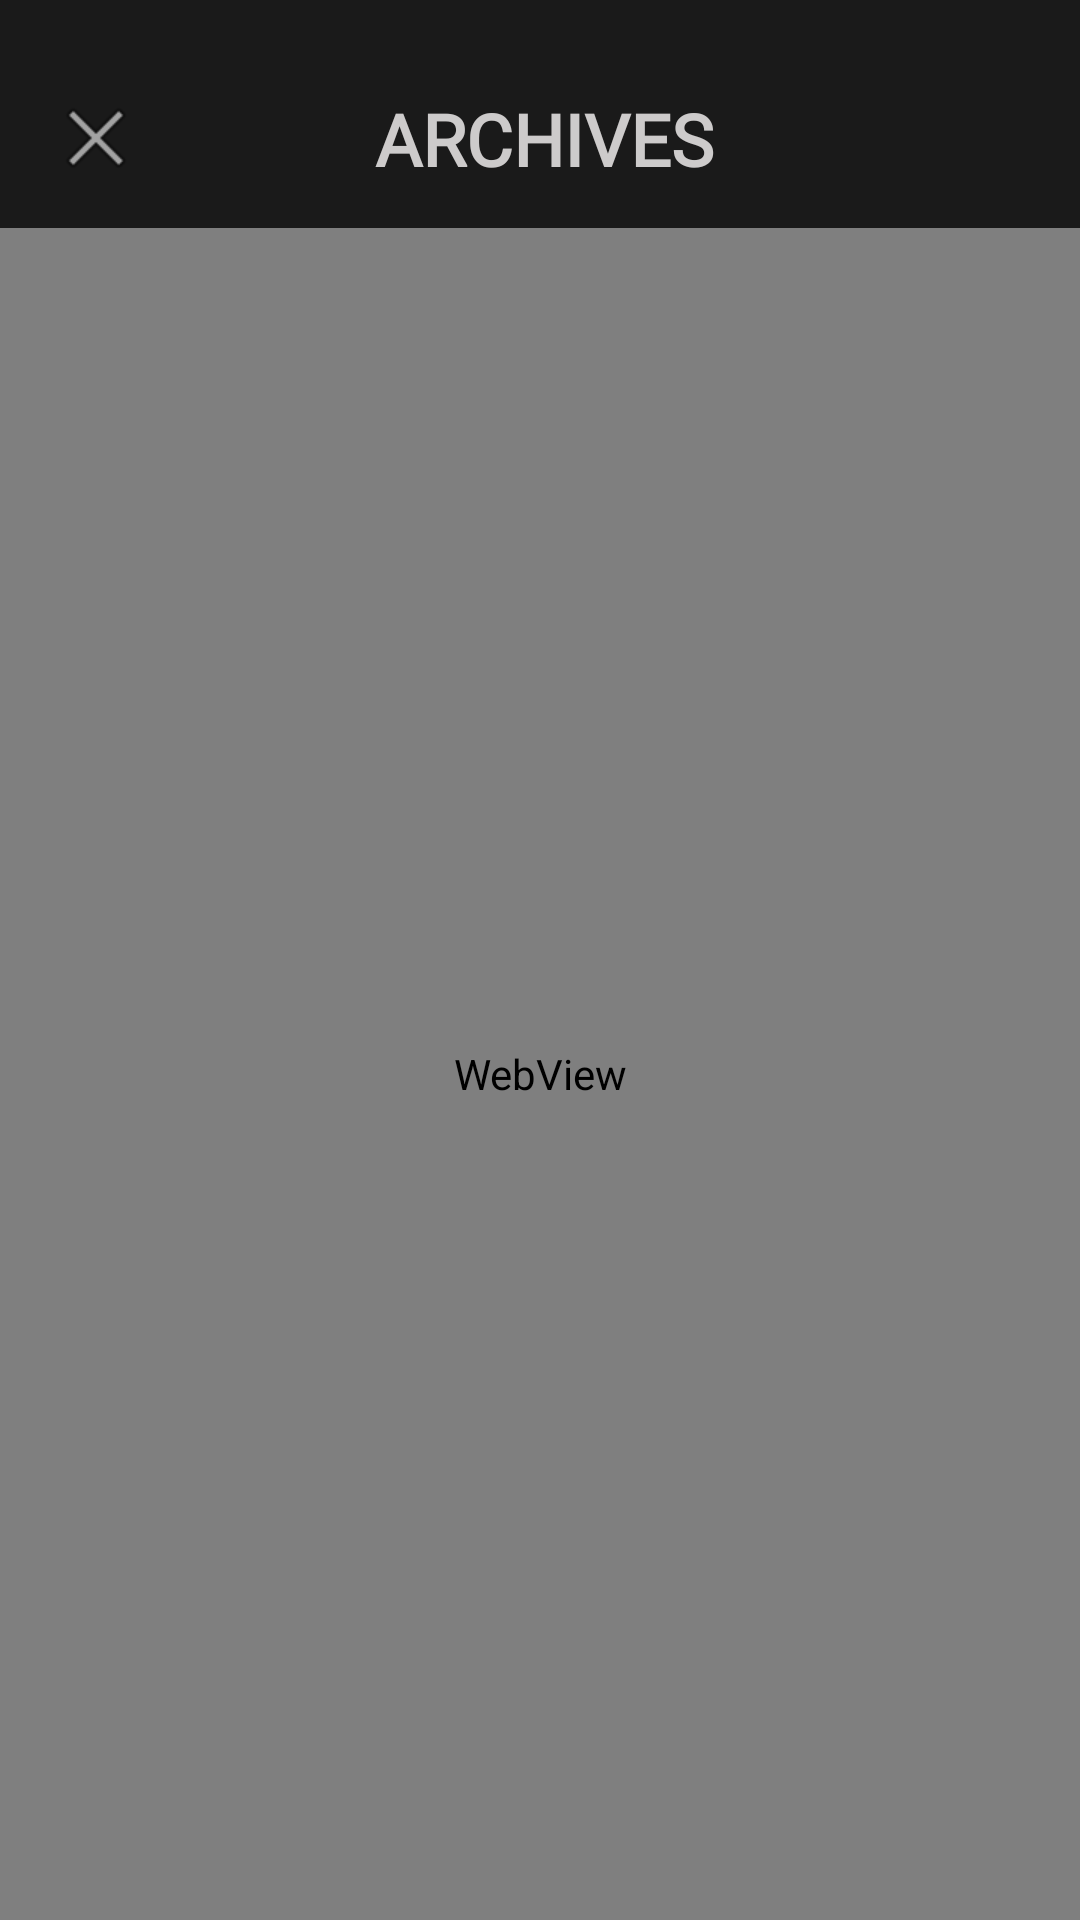

Named icons in this screenshot (1080x1920) and their centers, (x,y):
close: (96,138)
